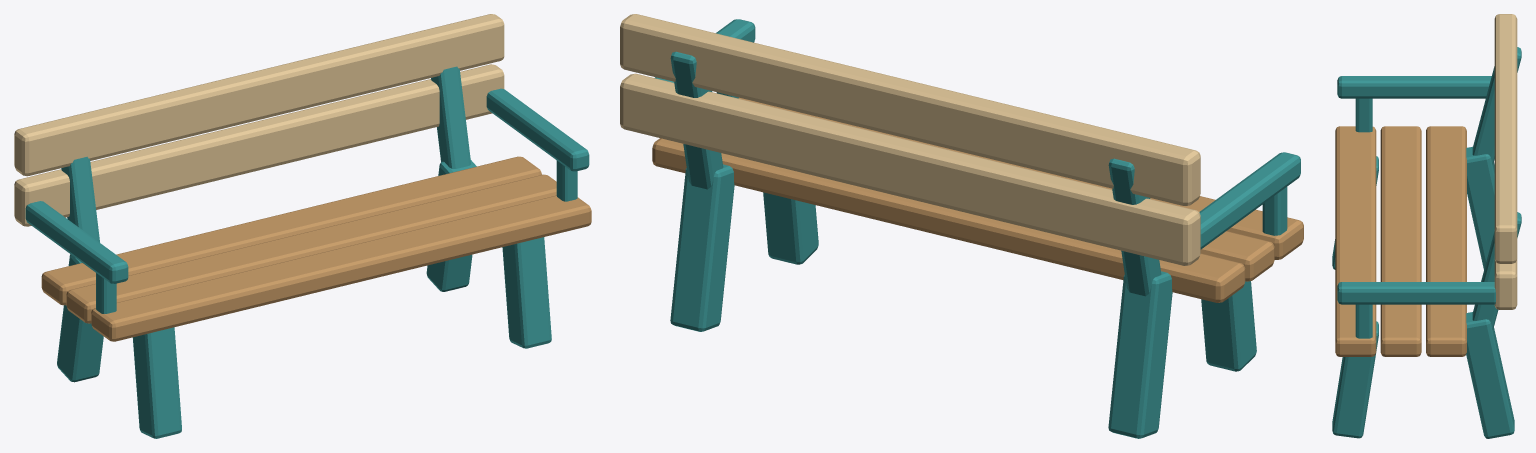
The model's file is S052_park_bench.glb.
3 views of the same model, side by side, from view 1: azimuth 30°, elevation 25°; view 2: azimuth 150°, elevation 25°; view 3: azimuth 270°, elevation 25° (orthographic). The views are drawn at different scales.
Visible parts, largest first — view 1: back_slat.001, back_slat, seat_slat, seat_slat.001, seat_slat.002, bench_front_leg.001, bench_front_leg, bench_arm.001, bench_arm, bench_back_support.001, bench_rear_leg, bench_back_support (+3 smaller); view 2: back_slat, back_slat.001, seat_slat.002, bench_rear_leg, bench_rear_leg.001, bench_arm, bench_front_leg, bench_front_leg.001, seat_slat, bench_back_support, bench_back_support.001, seat_slat.001 (+2 smaller); view 3: seat_slat.001, seat_slat.002, seat_slat, back_slat.001, bench_rear_leg.001, bench_arm.001, bench_arm, bench_front_leg.001, bench_rear_leg, bench_back_support, back_slat, bench_back_support.001 (+2 smaller).
Part boxes in pixels (<box>): back_slat.001: <box>14,14,504,176</box>; back_slat: <box>14,64,504,226</box>; seat_slat: <box>91,195,591,341</box>; seat_slat.001: <box>66,174,556,323</box>; seat_slat.002: <box>41,156,541,305</box>; bench_front_leg.001: <box>502,237,551,348</box>; bench_front_leg: <box>132,327,181,438</box>; bench_arm.001: <box>486,88,589,171</box>; bench_arm: <box>25,201,128,283</box>; bench_back_support.001: <box>431,66,471,168</box>; bench_rear_leg: <box>57,254,103,382</box>; bench_back_support: <box>61,156,99,242</box>; back_slat: <box>620,73,1200,265</box>; back_slat.001: <box>620,14,1200,206</box>; seat_slat.002: <box>652,138,1245,302</box>; bench_rear_leg: <box>1108,271,1172,438</box>; bench_rear_leg.001: <box>670,164,734,331</box>; bench_arm: <box>1199,152,1300,249</box>; bench_front_leg: <box>1201,281,1256,371</box>; bench_front_leg.001: <box>763,192,818,264</box>; seat_slat: <box>738,97,1303,259</box>; bench_back_support: <box>1108,158,1161,296</box>; bench_back_support.001: <box>670,51,723,189</box>; seat_slat.001: <box>1200,231,1274,281</box>; seat_slat.001: <box>1380,126,1421,356</box>; seat_slat.002: <box>1426,126,1466,356</box>; seat_slat: <box>1335,126,1376,356</box>; back_slat.001: <box>1494,14,1517,263</box>; bench_rear_leg.001: <box>1466,312,1514,438</box>; bench_arm.001: <box>1337,282,1495,304</box>; bench_arm: <box>1337,76,1491,98</box>; bench_front_leg.001: <box>1332,321,1378,438</box>; bench_rear_leg: <box>1466,146,1494,269</box>; bench_back_support: <box>1472,47,1521,164</box>; back_slat: <box>1494,259,1517,309</box>; bench_back_support.001: <box>1472,212,1521,329</box>.
Bounding box in the file's own units: 1.8 × 0.9028 × 0.6677.
